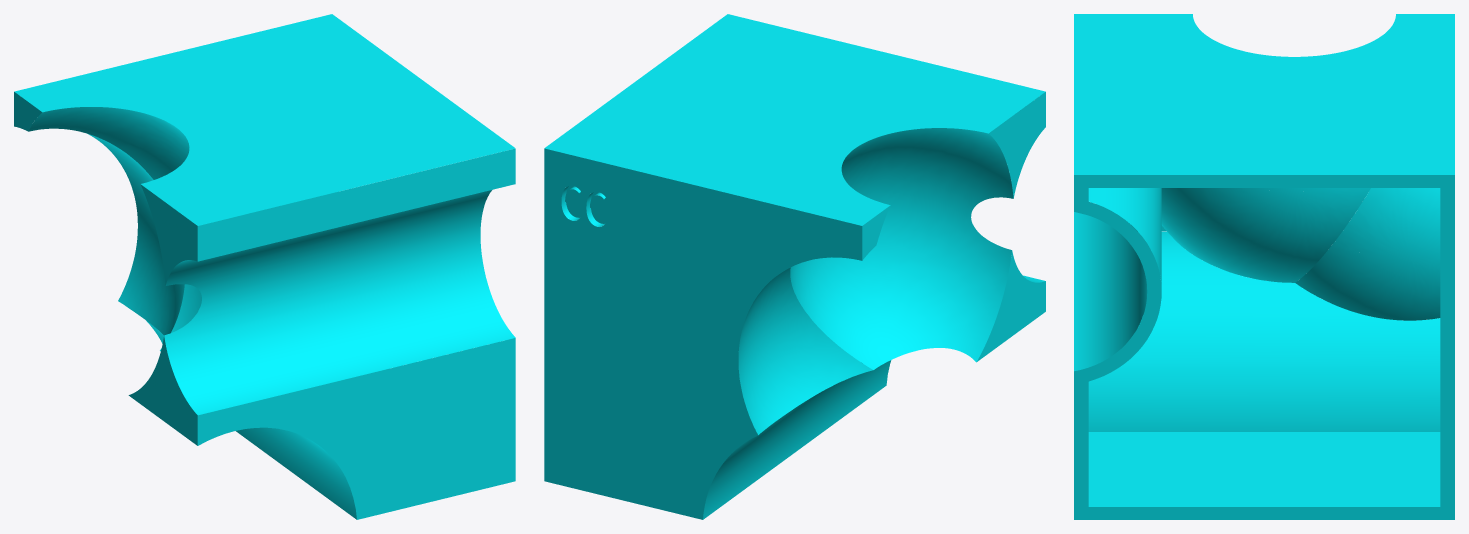
The picture shows the model from 3 angles, left to right: view 1: azimuth 30°, elevation 25°; view 2: azimuth 150°, elevation 25°; view 3: azimuth 270°, elevation 25°; orthographic projection. The views are drawn at different scales.
Visible parts, largest first — view 1: 70_vars_w-txt; view 2: 70_vars_w-txt; view 3: 70_vars_w-txt.
Part boxes in pixels (bbox=[...]): 70_vars_w-txt: bbox=[14, 14, 515, 519]; 70_vars_w-txt: bbox=[544, 14, 1045, 519]; 70_vars_w-txt: bbox=[1074, 14, 1454, 519].
Bounding box in the file's own units: 0.042 × 0.042 × 0.042.
